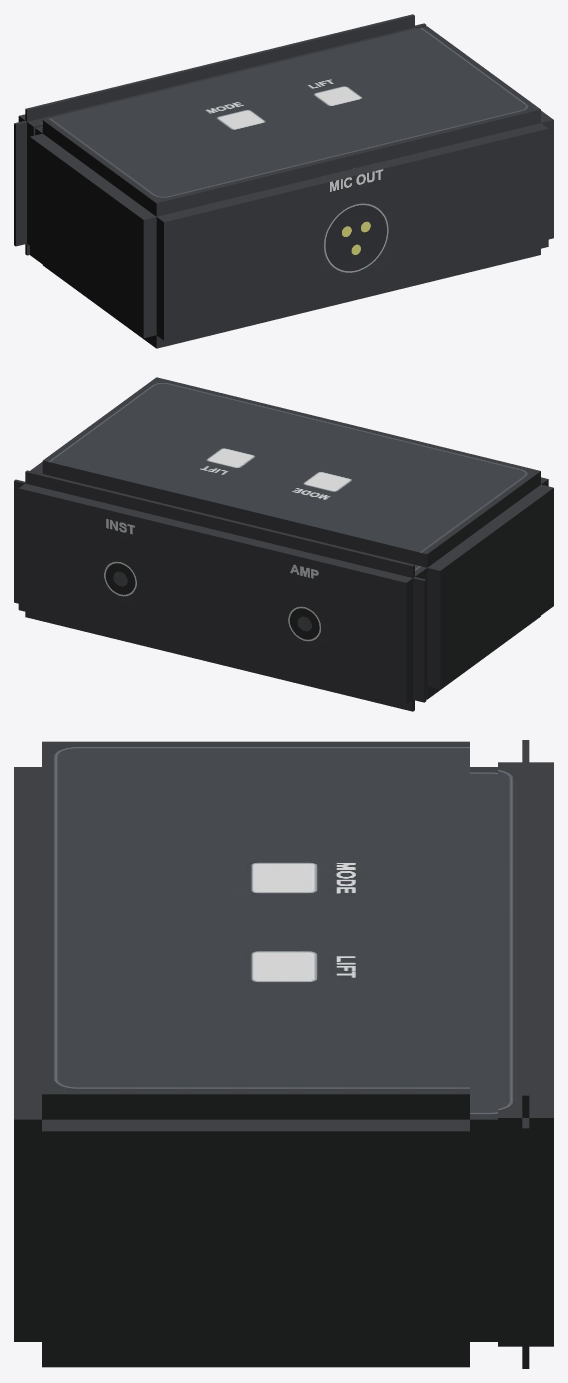
Rendered from countryman-type-85.glb.
3 renders of one model, top to bottom at view 1: azimuth 30°, elevation 25°; view 2: azimuth 150°, elevation 25°; view 3: azimuth 270°, elevation 25°, orthographic. The views are drawn at different scales.
Visible parts, largest first — view 1: countryman-type-85-body; view 2: countryman-type-85-body; view 3: countryman-type-85-body.
Boxes of the visible parts, box(x1,y1,x2,y2) form: countryman-type-85-body: box(14, 14, 553, 348); countryman-type-85-body: box(14, 377, 553, 711); countryman-type-85-body: box(14, 740, 553, 1368).
Size of the model in its own units: 0.127 by 0.045 by 0.077.
Materials: 1 (1 with a texture image).
